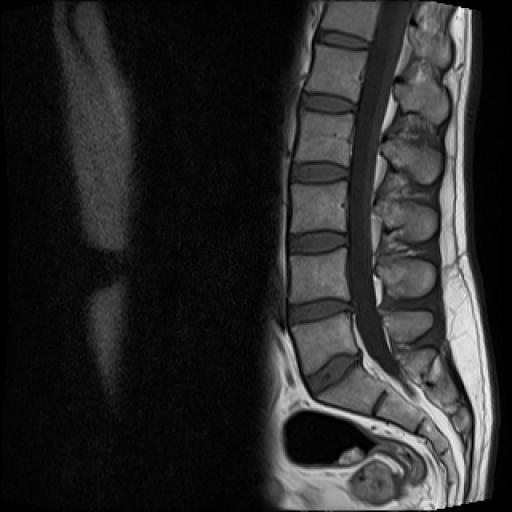L1: (304, 44, 367, 102)
L2: (294, 108, 354, 166)
L3: (290, 181, 346, 232)
L4: (288, 247, 349, 302)
L5: (291, 314, 358, 376)
S1: (316, 364, 385, 416)
